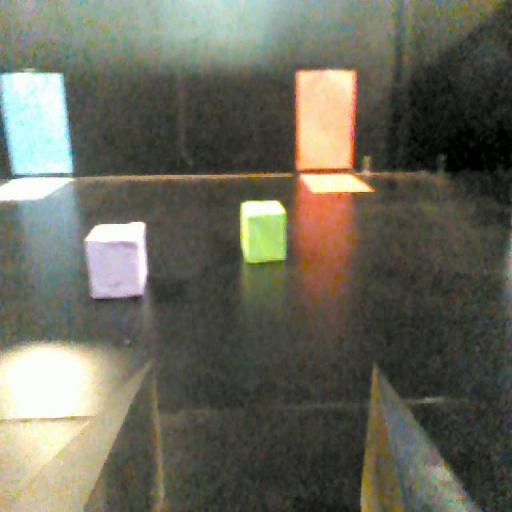cube: (79, 220, 150, 302), (236, 199, 290, 265)
